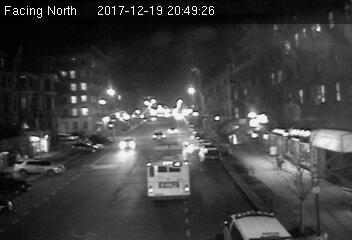bus: (146, 143, 192, 199)
car: (201, 149, 221, 164), (119, 136, 137, 150), (150, 131, 168, 142)
police: (216, 208, 291, 240)
